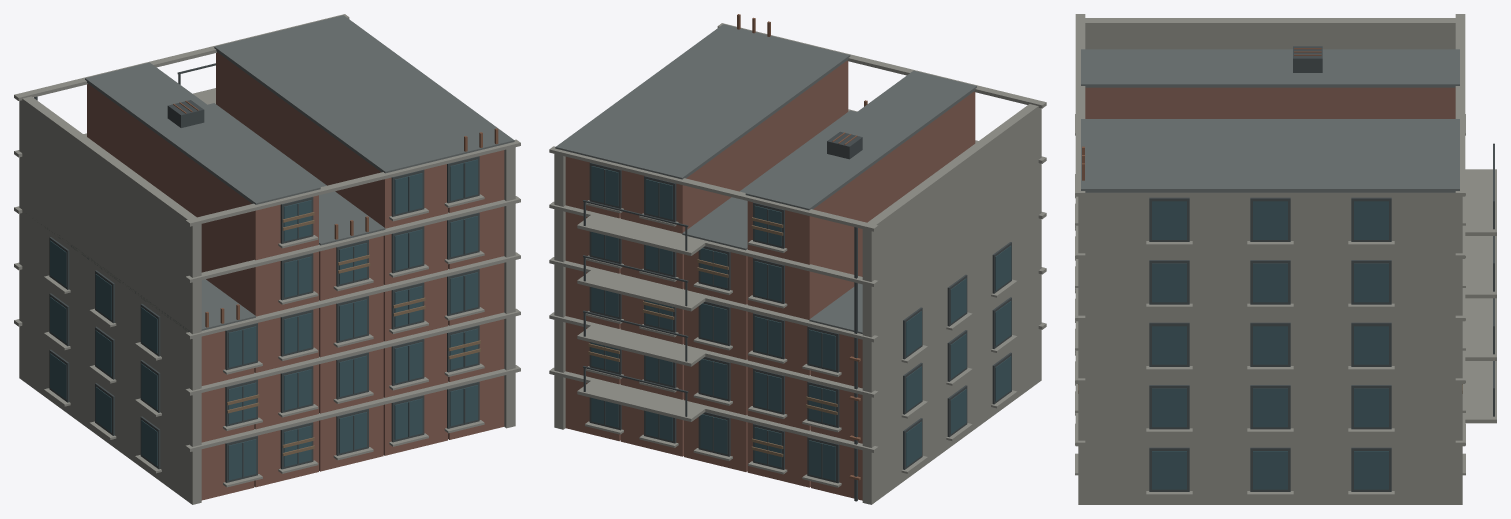
File: Ville_Batiment_09.fbx
The picture shows the model from 3 angles, left to right: view 1: azimuth 30°, elevation 25°; view 2: azimuth 150°, elevation 25°; view 3: azimuth 270°, elevation 25°; orthographic projection. The views are drawn at different scales.
Visible parts, largest first — view 1: Ville_Batiment_09_concrete, Ville_Batiment_09_brick, Ville_Batiment_09_concrete_dark, Ville_Batiment_09_glass, Ville_Batiment_09_iron, Ville_Batiment_09_wood, Ville_Batiment_09_rust; view 2: Ville_Batiment_09_concrete, Ville_Batiment_09_brick, Ville_Batiment_09_concrete_dark, Ville_Batiment_09_glass, Ville_Batiment_09_iron, Ville_Batiment_09_wood; view 3: Ville_Batiment_09_concrete, Ville_Batiment_09_concrete_dark, Ville_Batiment_09_glass, Ville_Batiment_09_brick, Ville_Batiment_09_iron.
Boxes of the visible parts, left/top/right/bottom form: Ville_Batiment_09_concrete: left=14, top=14, right=520, bottom=504; Ville_Batiment_09_brick: left=87, top=52, right=504, bottom=500; Ville_Batiment_09_concrete_dark: left=26, top=15, right=514, bottom=331; Ville_Batiment_09_glass: left=50, top=159, right=477, bottom=480; Ville_Batiment_09_iron: left=34, top=63, right=479, bottom=482; Ville_Batiment_09_wood: left=227, top=212, right=480, bottom=456; Ville_Batiment_09_rust: left=173, top=100, right=498, bottom=327; Ville_Batiment_09_concrete: left=549, top=23, right=1046, bottom=504; Ville_Batiment_09_brick: left=565, top=60, right=975, bottom=500; Ville_Batiment_09_concrete_dark: left=555, top=24, right=976, bottom=333; Ville_Batiment_09_glass: left=591, top=166, right=1011, bottom=480; Ville_Batiment_09_iron: left=583, top=131, right=1011, bottom=501; Ville_Batiment_09_wood: left=588, top=217, right=837, bottom=457; Ville_Batiment_09_concrete: left=1075, top=14, right=1496, bottom=504; Ville_Batiment_09_concrete_dark: left=1081, top=49, right=1459, bottom=192; Ville_Batiment_09_glass: left=1152, top=201, right=1388, bottom=489; Ville_Batiment_09_brick: left=1085, top=87, right=1455, bottom=118; Ville_Batiment_09_iron: left=1149, top=46, right=1494, bottom=491.
Size of the model in its own units: 43.56 by 37.2 by 42.85.
